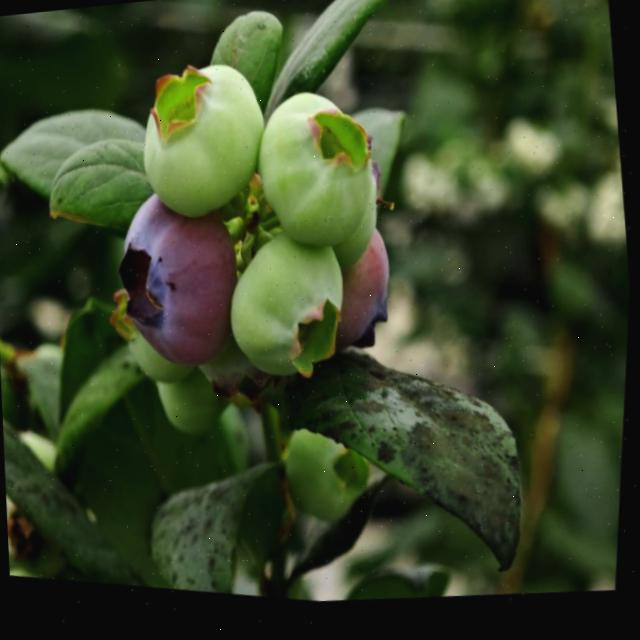Semi-RipeBlueBerry: (102, 181, 258, 392)
UnripeBlueBerry: (131, 48, 280, 247), (244, 78, 394, 273), (217, 224, 366, 407)
